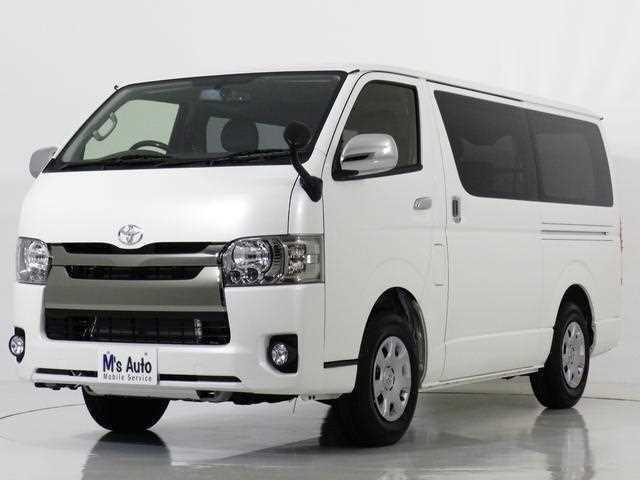car: (10, 56, 629, 451)
